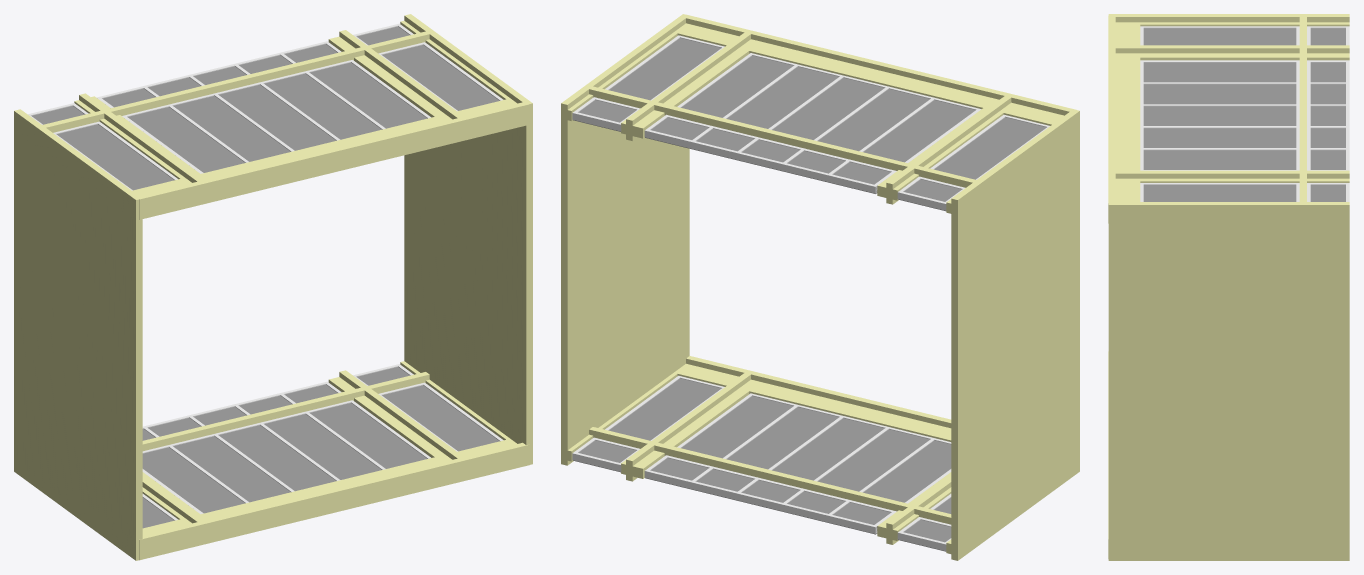
Rendered from nhatang1.fbx.
The picture shows the model from 3 angles, left to right: view 1: azimuth 30°, elevation 25°; view 2: azimuth 150°, elevation 25°; view 3: azimuth 270°, elevation 25°; orthographic projection.
Parts seen in each view (by area): view 1: imagetostl_mesh65, imagetostl_mesh64, imagetostl_mesh5, imagetostl_mesh71, imagetostl_mesh4, imagetostl_mesh100, imagetostl_mesh48, imagetostl_mesh55, imagetostl_mesh107, imagetostl_mesh27, imagetostl_mesh34, imagetostl_mesh93 (+22 smaller); view 2: imagetostl_mesh65, imagetostl_mesh64, imagetostl_mesh6, imagetostl_mesh4, imagetostl_mesh70, imagetostl_mesh20, imagetostl_mesh13, imagetostl_mesh121, imagetostl_mesh55, imagetostl_mesh48, imagetostl_mesh107, imagetostl_mesh34 (+23 smaller); view 3: imagetostl_mesh64, imagetostl_mesh3, imagetostl_mesh6, imagetostl_mesh27, imagetostl_mesh20, imagetostl_mesh69, imagetostl_mesh34, imagetostl_mesh41, imagetostl_mesh48, imagetostl_mesh13, imagetostl_mesh55, imagetostl_mesh2 (+15 smaller).
Boxes of the visible parts, x1,y1,x2,y2 form: imagetostl_mesh65: (14, 122, 142, 550); imagetostl_mesh64: (404, 114, 532, 454); imagetostl_mesh5: (136, 101, 529, 219); imagetostl_mesh71: (139, 442, 529, 560); imagetostl_mesh4: (39, 31, 431, 132); imagetostl_mesh100: (193, 406, 336, 491); imagetostl_mesh48: (284, 44, 427, 128); imagetostl_mesh55: (357, 26, 499, 110); imagetostl_mesh107: (239, 395, 381, 479); imagetostl_mesh27: (148, 77, 290, 161); imagetostl_mesh34: (193, 66, 336, 150); imagetostl_mesh93: (148, 418, 290, 502); imagetostl_mesh65: (951, 122, 1079, 550); imagetostl_mesh64: (561, 114, 689, 455); imagetostl_mesh6: (674, 23, 1063, 125); imagetostl_mesh4: (588, 85, 979, 187); imagetostl_mesh70: (589, 427, 951, 524); imagetostl_mesh20: (827, 100, 975, 193); imagetostl_mesh13: (898, 117, 1046, 211); imagetostl_mesh121: (573, 378, 721, 472); imagetostl_mesh55: (573, 38, 721, 131); imagetostl_mesh48: (645, 55, 793, 148); imagetostl_mesh107: (691, 407, 838, 500); imagetostl_mesh34: (736, 78, 884, 170); imagetostl_mesh64: (1108, 215, 1349, 550); imagetostl_mesh3: (1108, 202, 1349, 225); imagetostl_mesh6: (1115, 22, 1140, 201); imagetostl_mesh27: (1143, 84, 1345, 104); imagetostl_mesh20: (1143, 62, 1345, 82); imagetostl_mesh69: (1108, 541, 1349, 560); imagetostl_mesh34: (1143, 106, 1345, 125); imagetostl_mesh41: (1143, 128, 1345, 147); imagetostl_mesh48: (1143, 150, 1345, 169); imagetostl_mesh13: (1143, 28, 1345, 45); imagetostl_mesh55: (1143, 185, 1345, 201); imagetostl_mesh2: (1108, 170, 1349, 178).
Size of the model in its own units: 3050 by 2650 by 1628.
